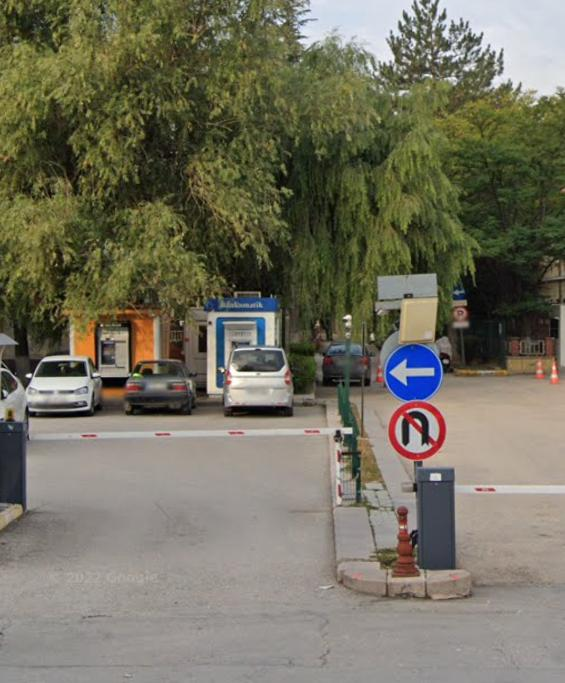turnleft: (385, 343, 445, 399)
